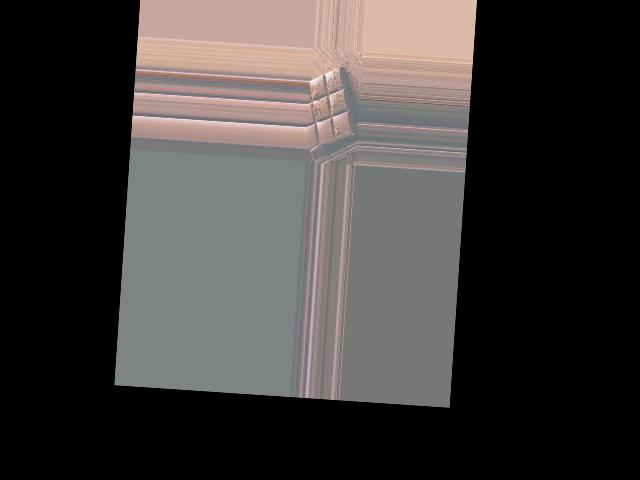chocolate: (305, 61, 358, 152)
